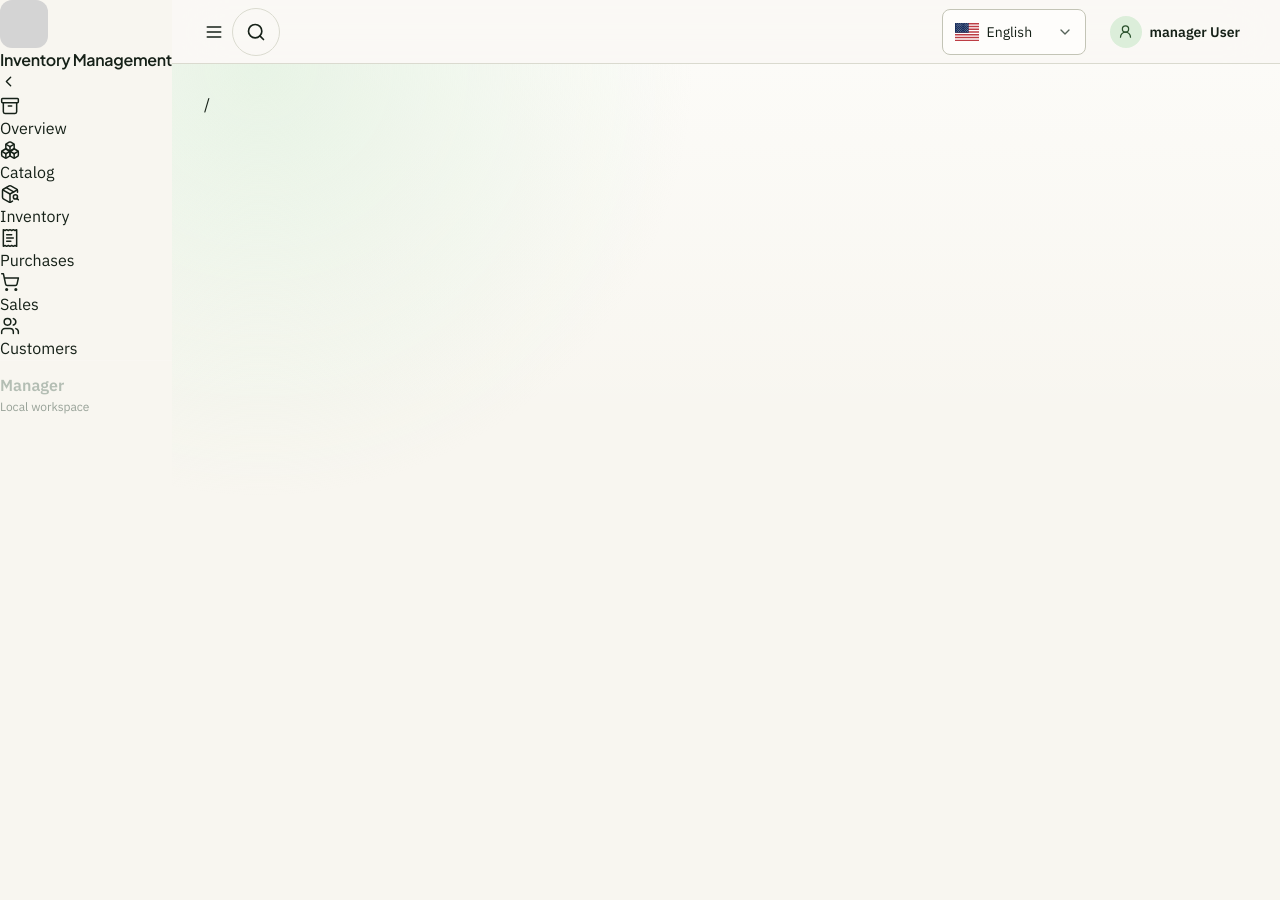
Test: AppShell global product search › uses ASCII-safe loading copy while a product search is pending
Type keys "/"
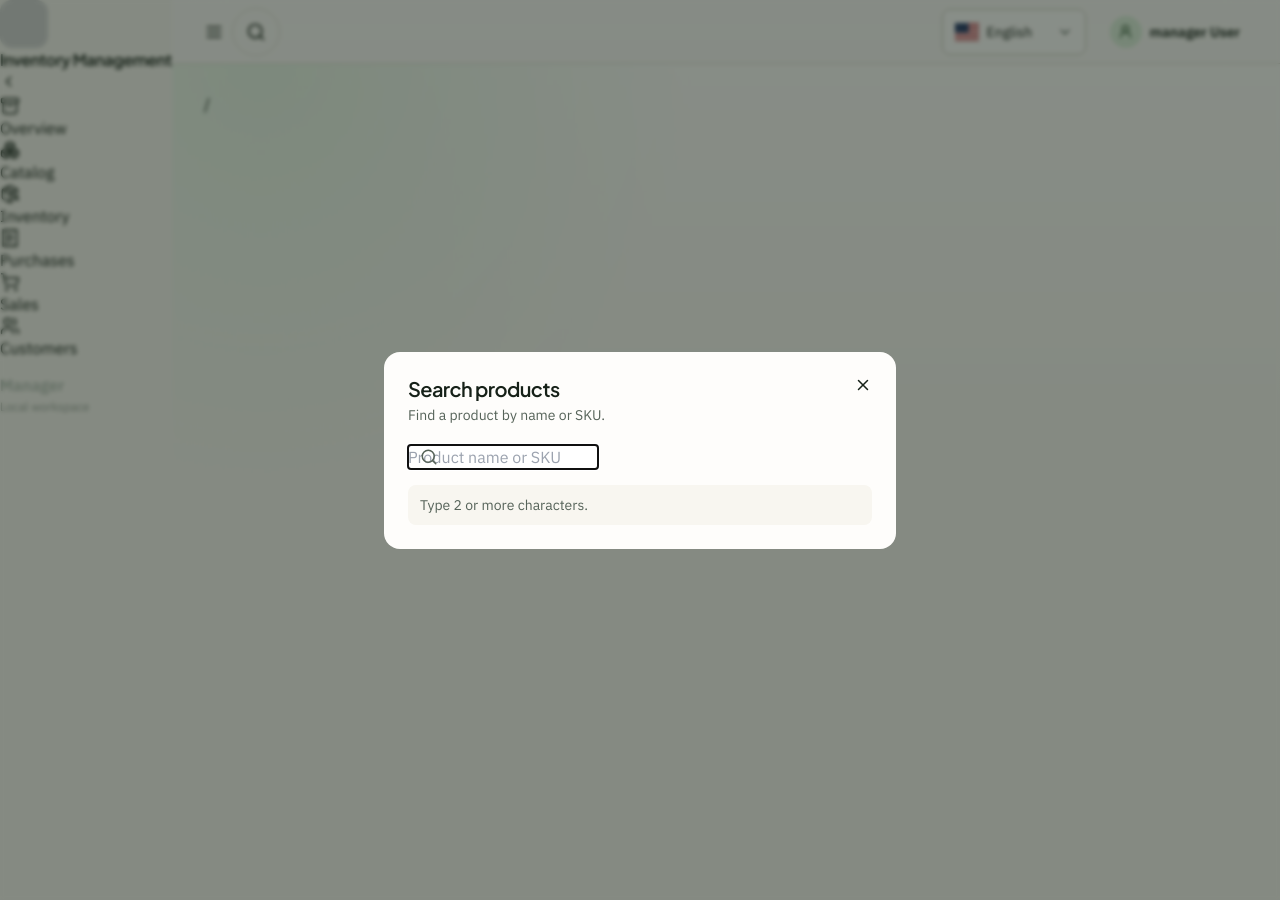
Type "no" into the field named "Search products".
click(503, 456); type("no")  # box 408,444 -> 598,468
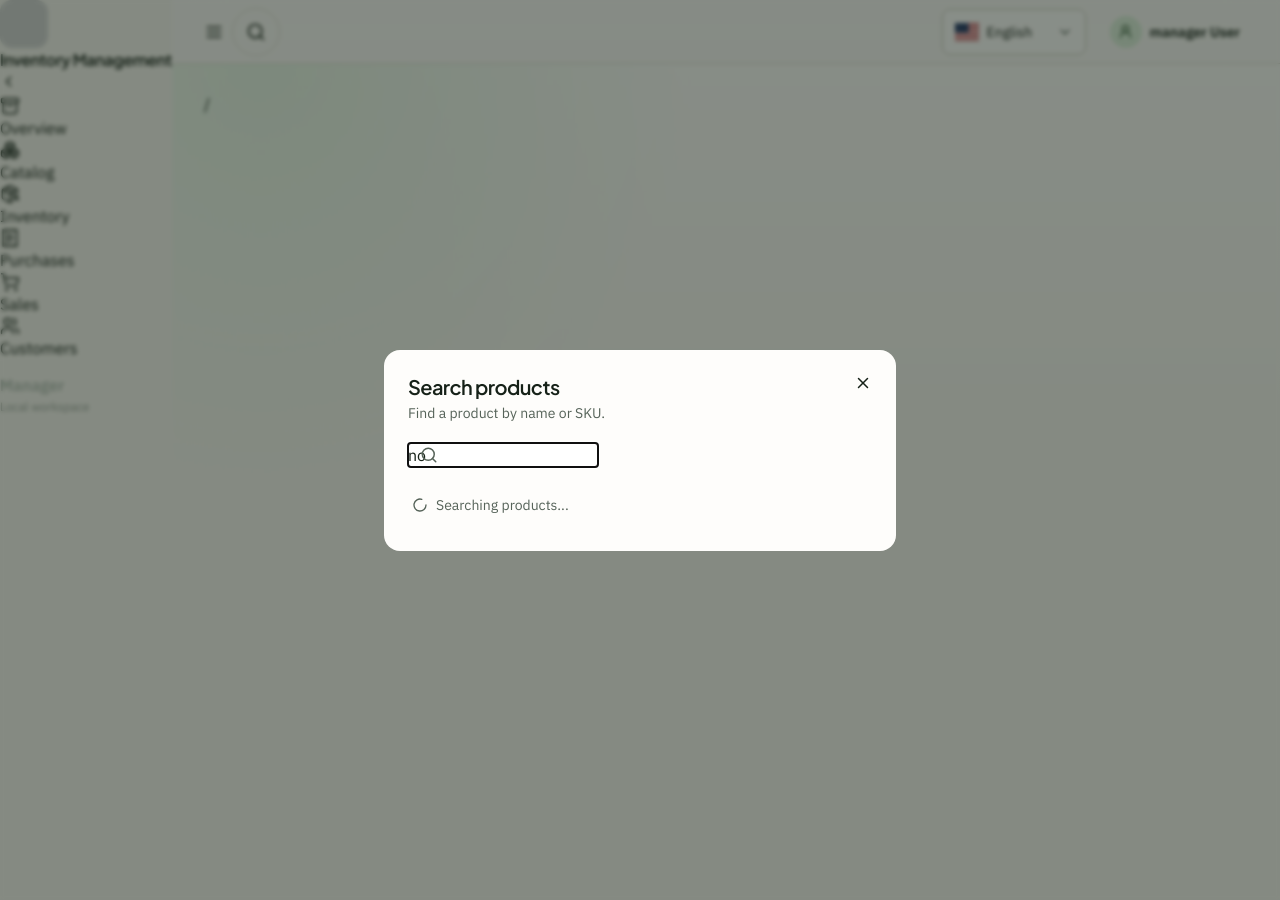
Now the text "Searching products..." is shown, box 412,496 -> 569,514
